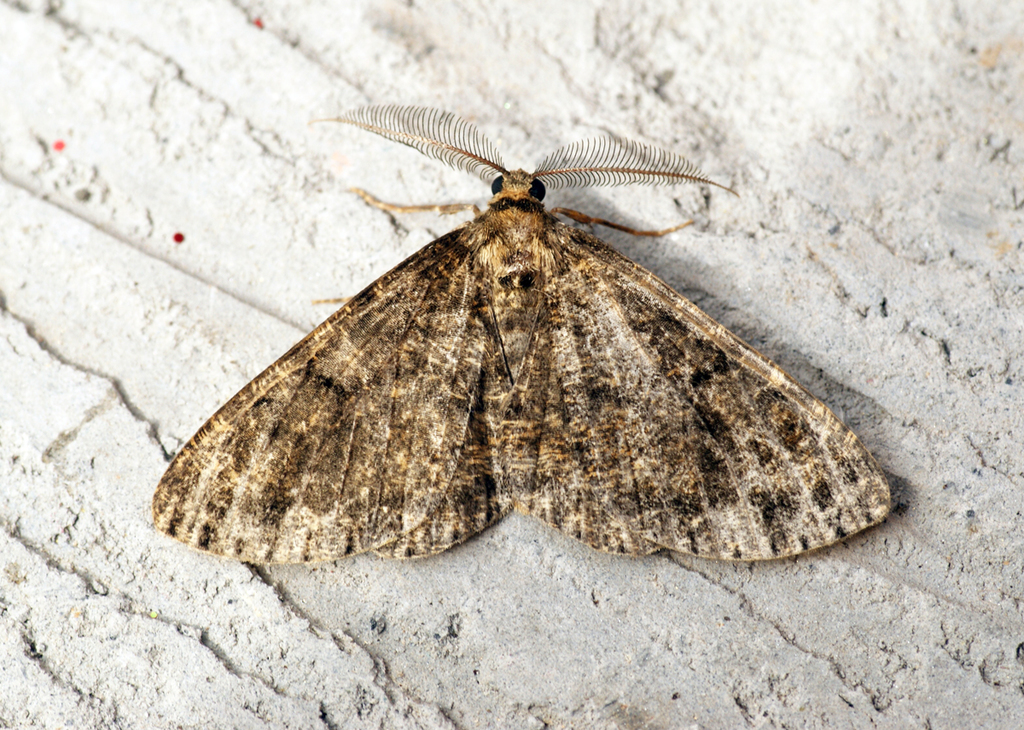Butterfly: (138, 98, 932, 612)
